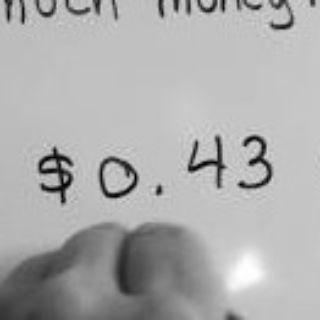.: (152, 181, 167, 197)
0: (96, 155, 141, 200)
3: (236, 129, 276, 193)
4: (187, 129, 228, 192)
